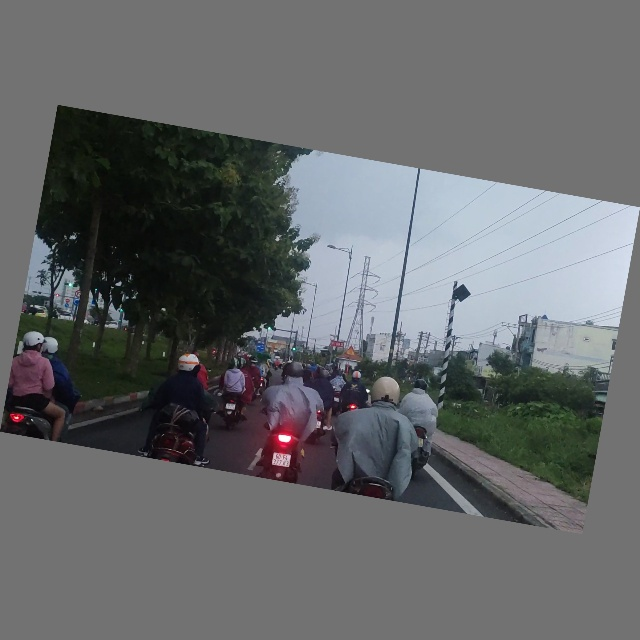W.210: (345, 346, 357, 357)
